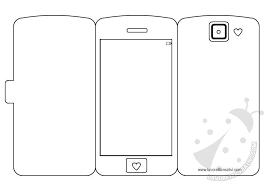Smartphone: (180, 9, 263, 180), (9, 16, 95, 179), (96, 14, 178, 178)
